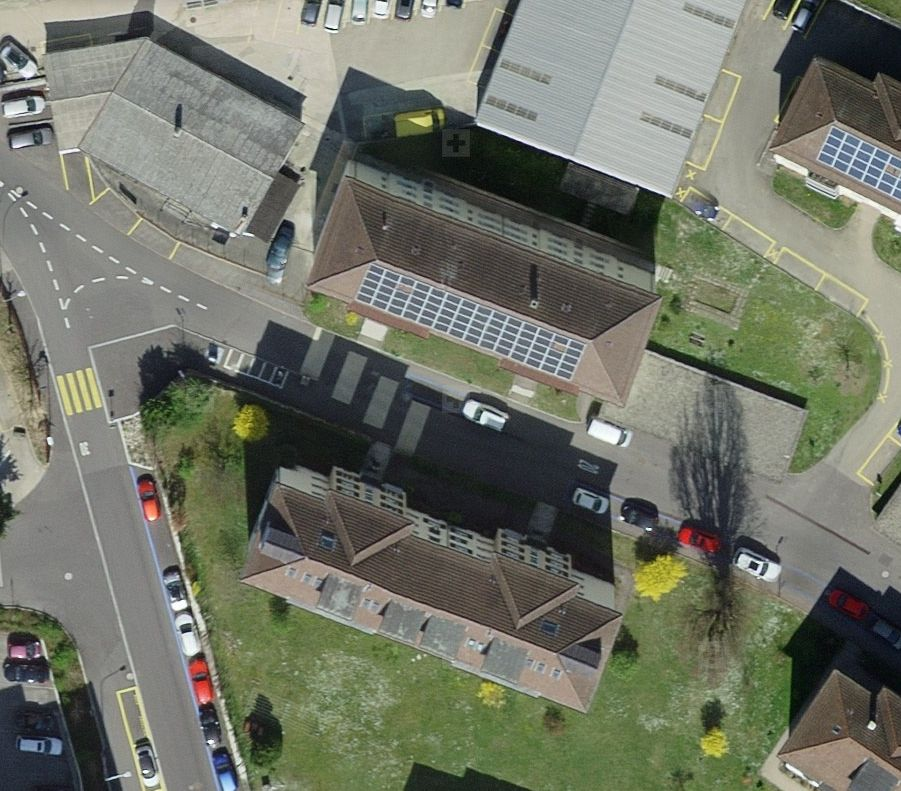solar: (350, 263, 590, 380), (815, 126, 901, 202)
